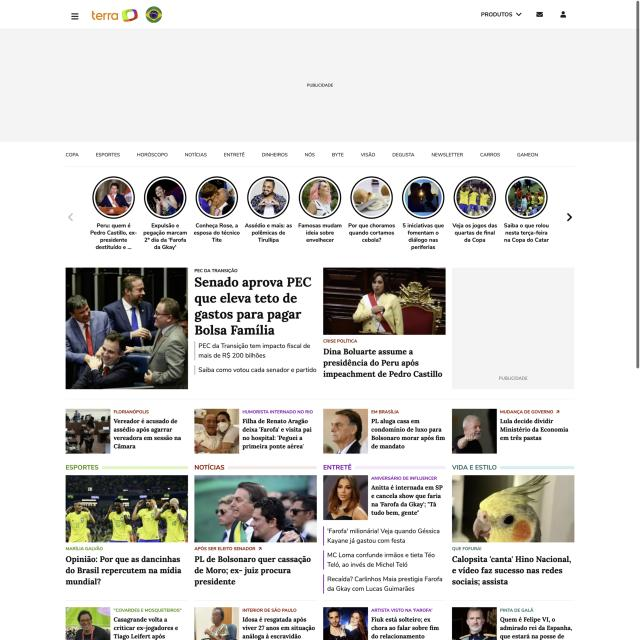content: (64, 264, 576, 640)
logo: (89, 6, 140, 24)
navigation: (62, 147, 542, 164), (70, 10, 80, 24)
